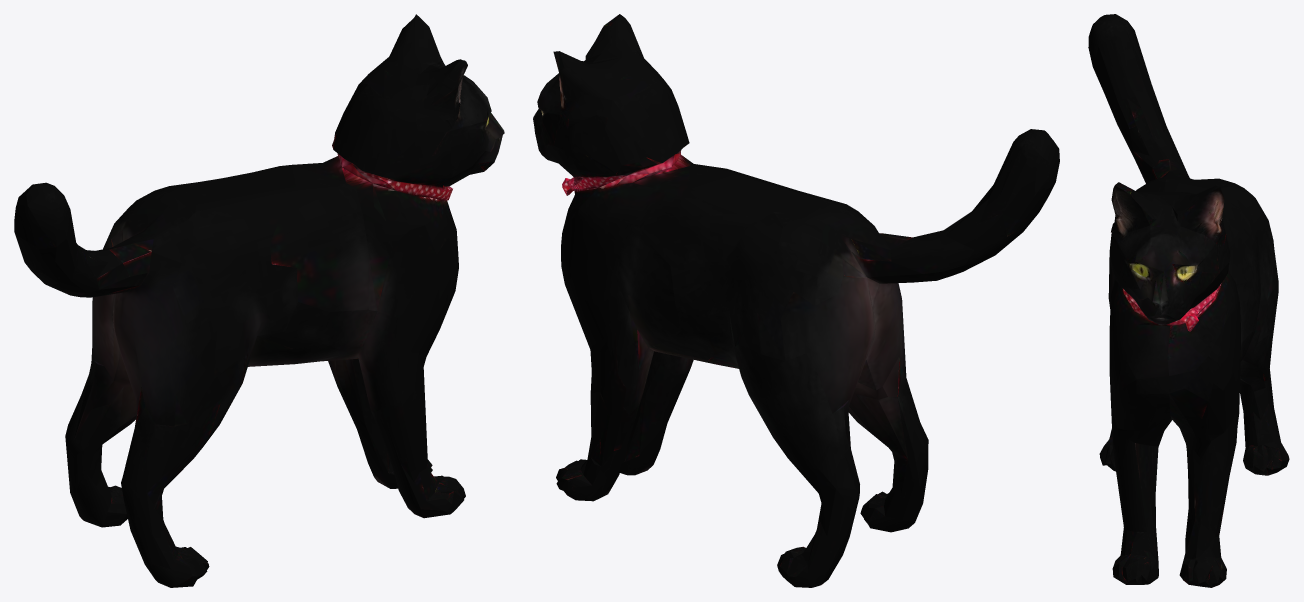
File: TREASMOG-lo.glb
3 renders of one model, left to right at view 1: azimuth 30°, elevation 25°; view 2: azimuth 150°, elevation 25°; view 3: azimuth 270°, elevation 25°, orthographic. The views are drawn at different scales.
Visible parts, largest first — view 1: output_unwrapped; view 2: output_unwrapped; view 3: output_unwrapped.
Part boxes in pixels (left/top/right/bottom): output_unwrapped: left=14, top=14, right=504, bottom=587; output_unwrapped: left=533, top=14, right=1059, bottom=587; output_unwrapped: left=1088, top=14, right=1289, bottom=587.
Size of the model in its own units: 1.17 by 1 by 0.4483.
Materials: 1 (1 with a texture image).
